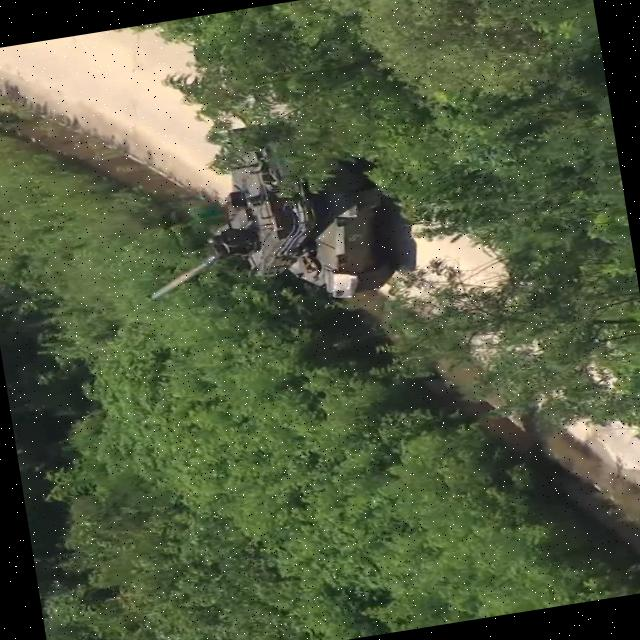korea tank: (112, 102, 408, 330)
